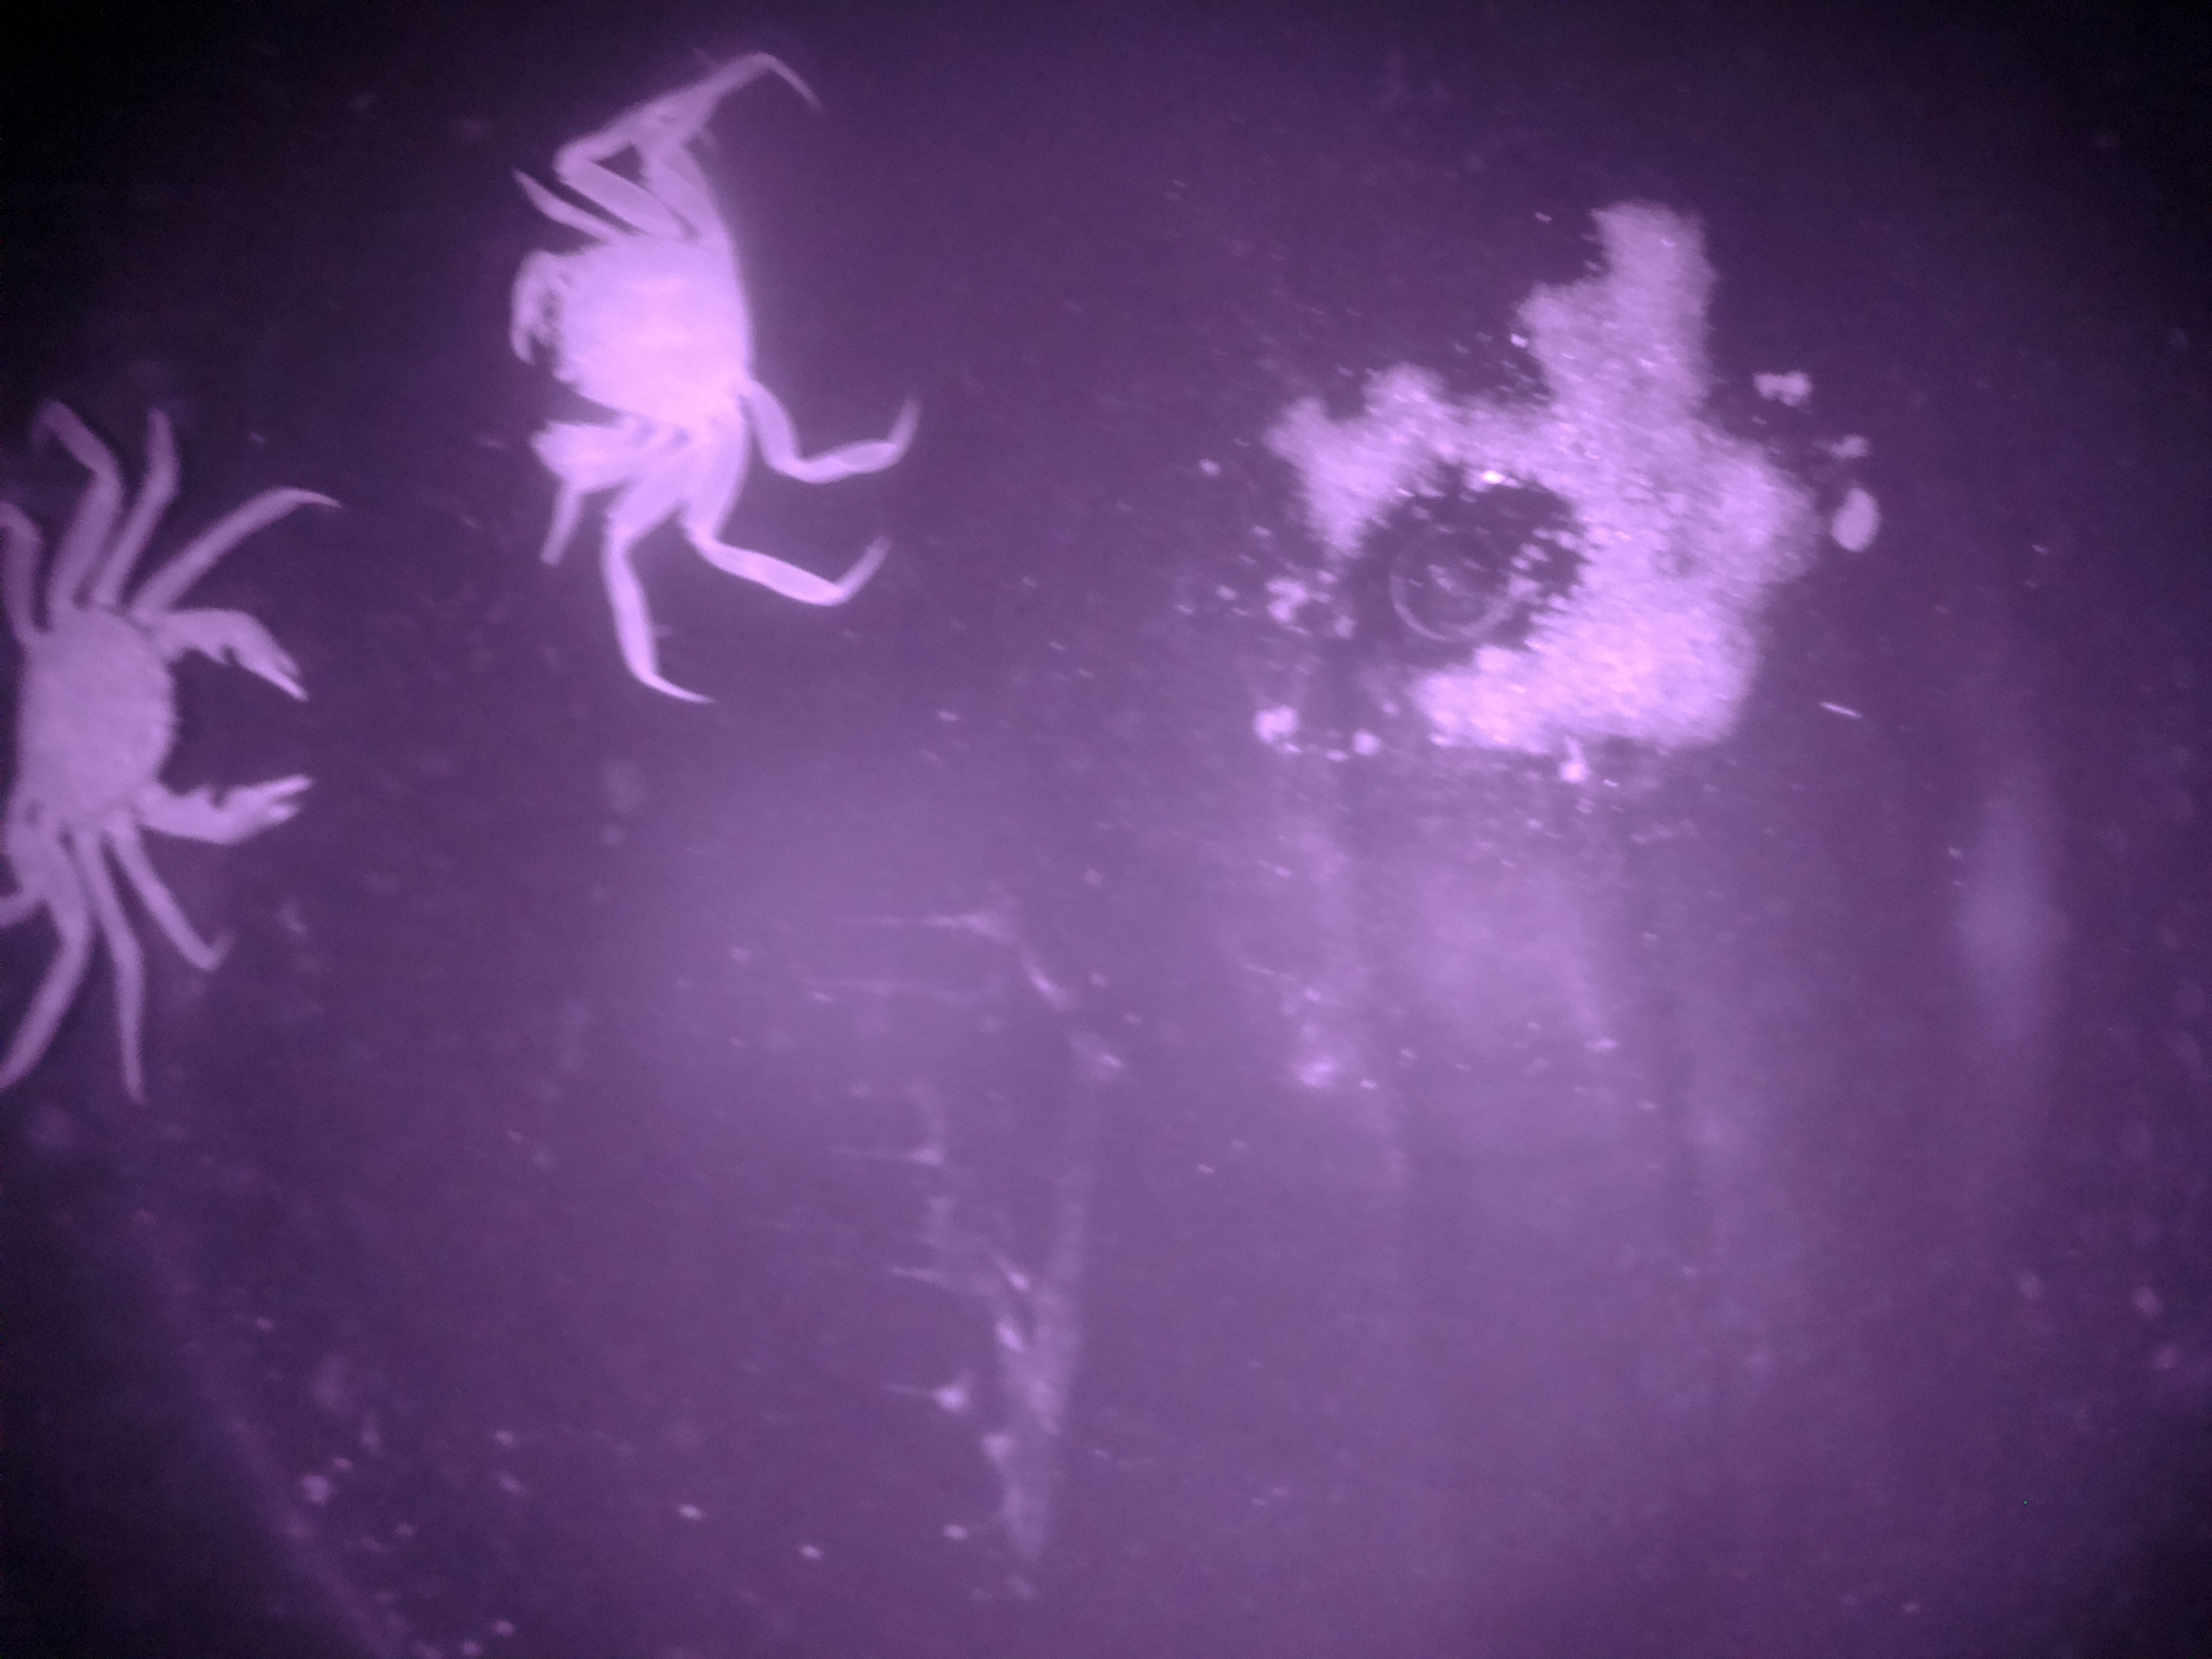Crab: (463, 87, 942, 606), (0, 439, 374, 976)
